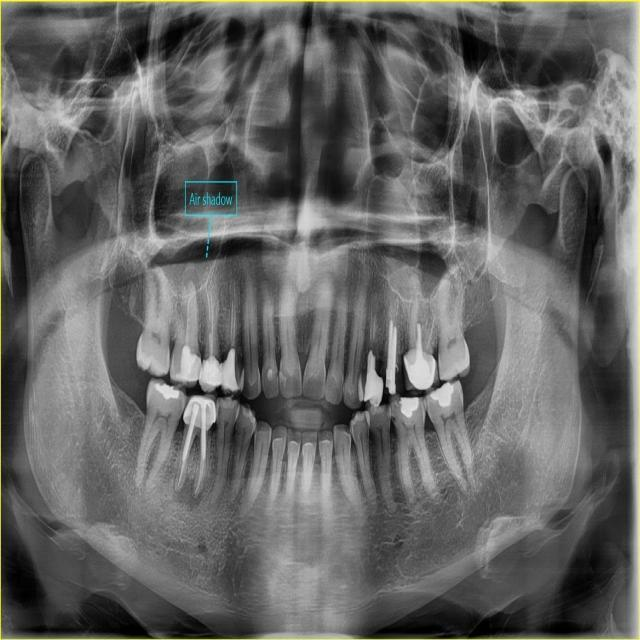Caries: (391, 416, 398, 454), (371, 430, 378, 452)
Crown: (403, 346, 439, 392), (183, 391, 218, 430), (175, 344, 202, 382), (199, 356, 222, 391), (222, 347, 239, 392)
Filling: (364, 350, 384, 406), (182, 405, 200, 462), (431, 382, 454, 408), (398, 397, 419, 420), (153, 382, 179, 399), (201, 406, 206, 460), (279, 369, 287, 389), (267, 367, 274, 380)
Periapical lesion: (176, 264, 201, 295), (173, 475, 190, 496), (191, 480, 206, 501), (383, 503, 400, 515)
Root Canal Treatment: (425, 313, 435, 349), (195, 455, 204, 494), (233, 279, 236, 346), (177, 462, 185, 486), (208, 293, 211, 357), (186, 297, 190, 344), (211, 293, 213, 355), (231, 300, 233, 347), (414, 308, 416, 346), (370, 305, 372, 340), (395, 297, 398, 317), (373, 314, 375, 338)
